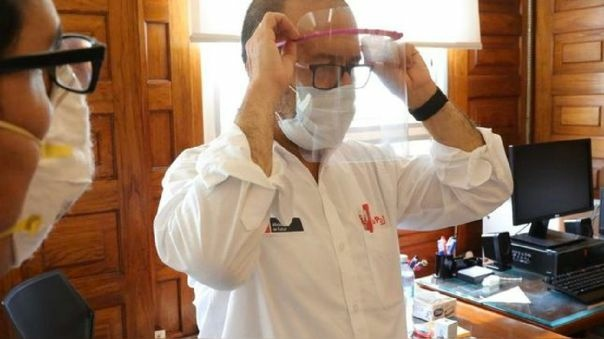with_mask: (4, 2, 119, 267), (251, 3, 386, 165)
